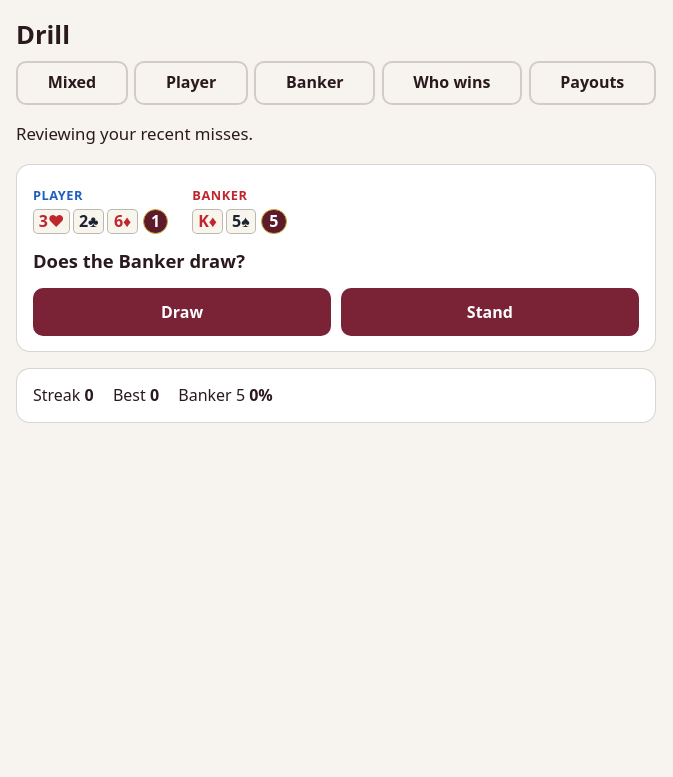
Drill › replays misses with spotFromCode, then says it is done
The image size is (673, 777).
Click the button "Draw" at point(182, 312), box [33,288,331,336]
(page scrolled)
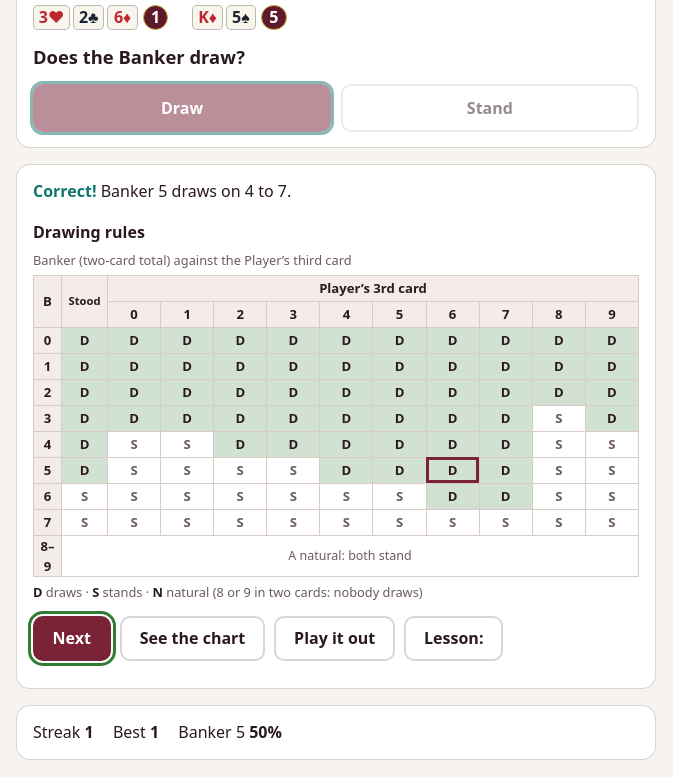
Click the button "Next" at point(72, 638), box [33,616,110,661]
(page scrolled)
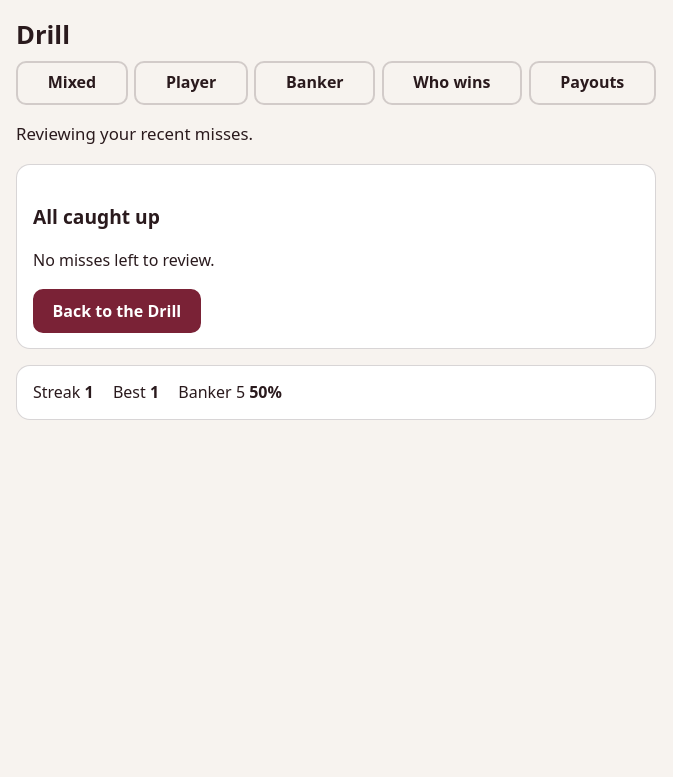
Expected: the message "All caught up No misses left to review. Back to the Drill" is shown, [16,164,656,349]
